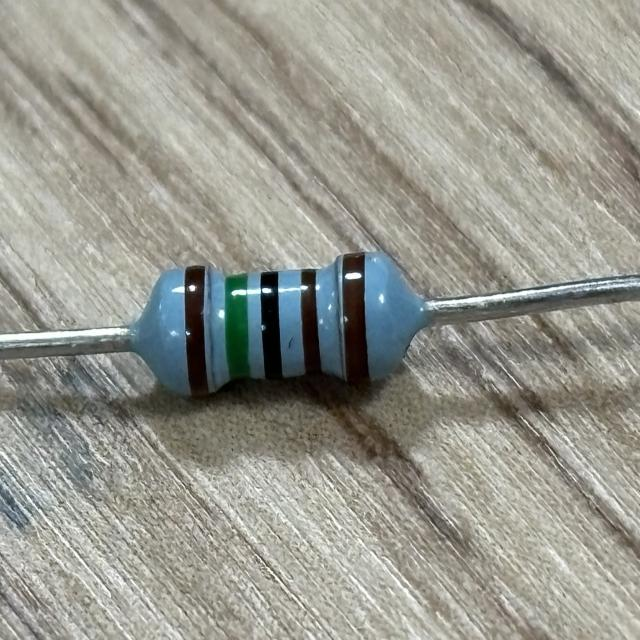resistor: (154, 248, 404, 405)
